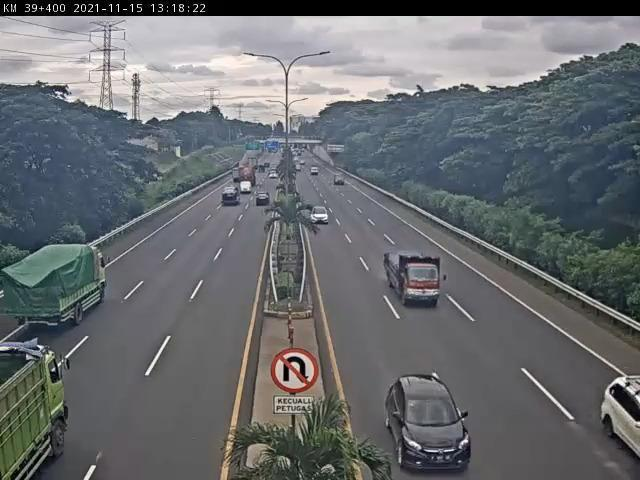car: (383, 373, 472, 474), (312, 205, 331, 226)
truck: (2, 242, 109, 324), (383, 251, 443, 308)
